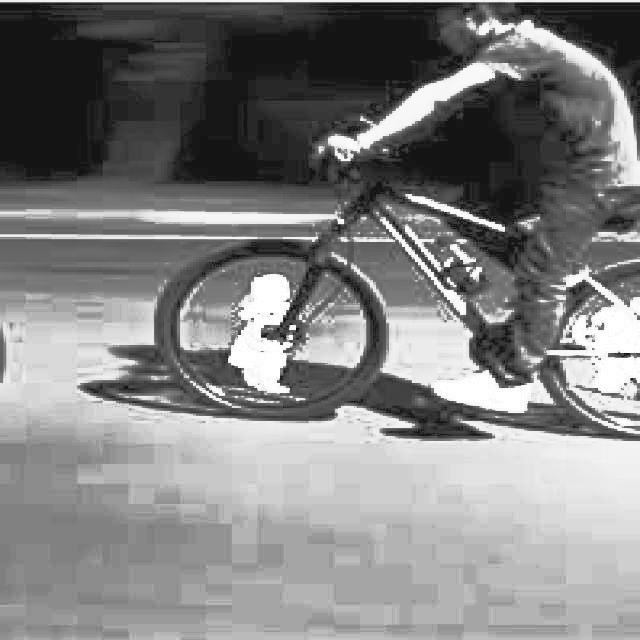Bicycle: (146, 111, 640, 436)
